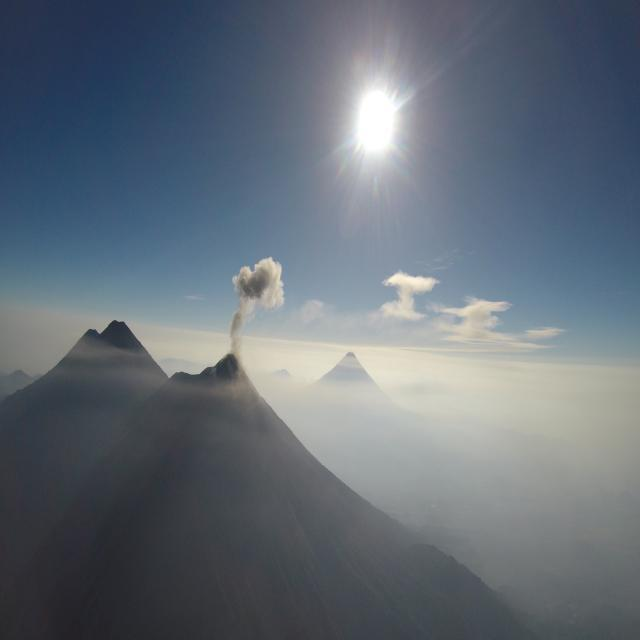Plume: (230, 254, 288, 353)
Summit: (152, 351, 270, 412)
